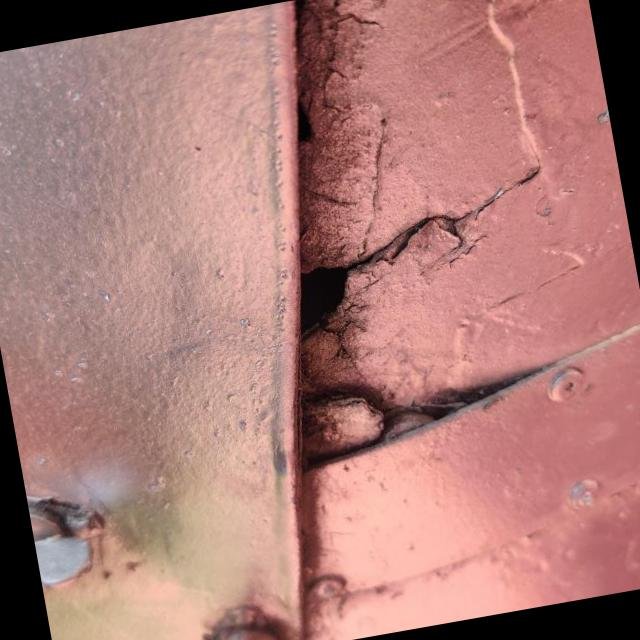Crack: (300, 181, 526, 334)
